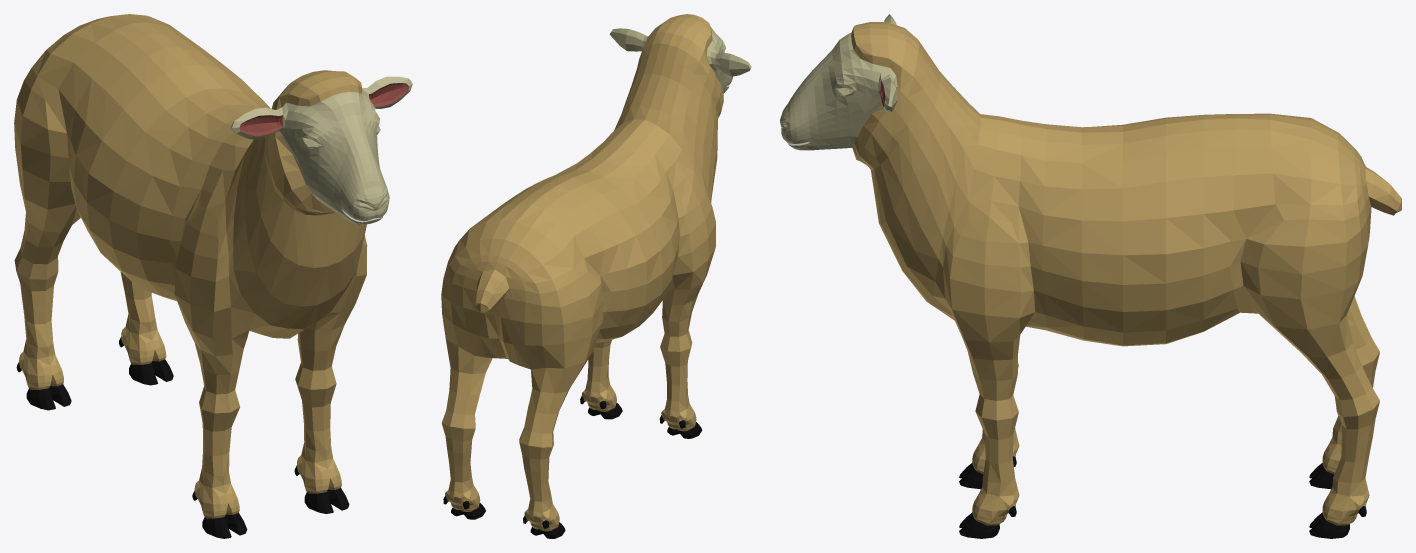
The model's file is sheep_sheep.obj.
3 views of the same model, side by side, from view 1: azimuth 30°, elevation 25°; view 2: azimuth 150°, elevation 25°; view 3: azimuth 270°, elevation 25° (orthographic). The views are drawn at different scales.
Bounding box in the file's own units: 0.4925 × 1.17 × 1.38.
